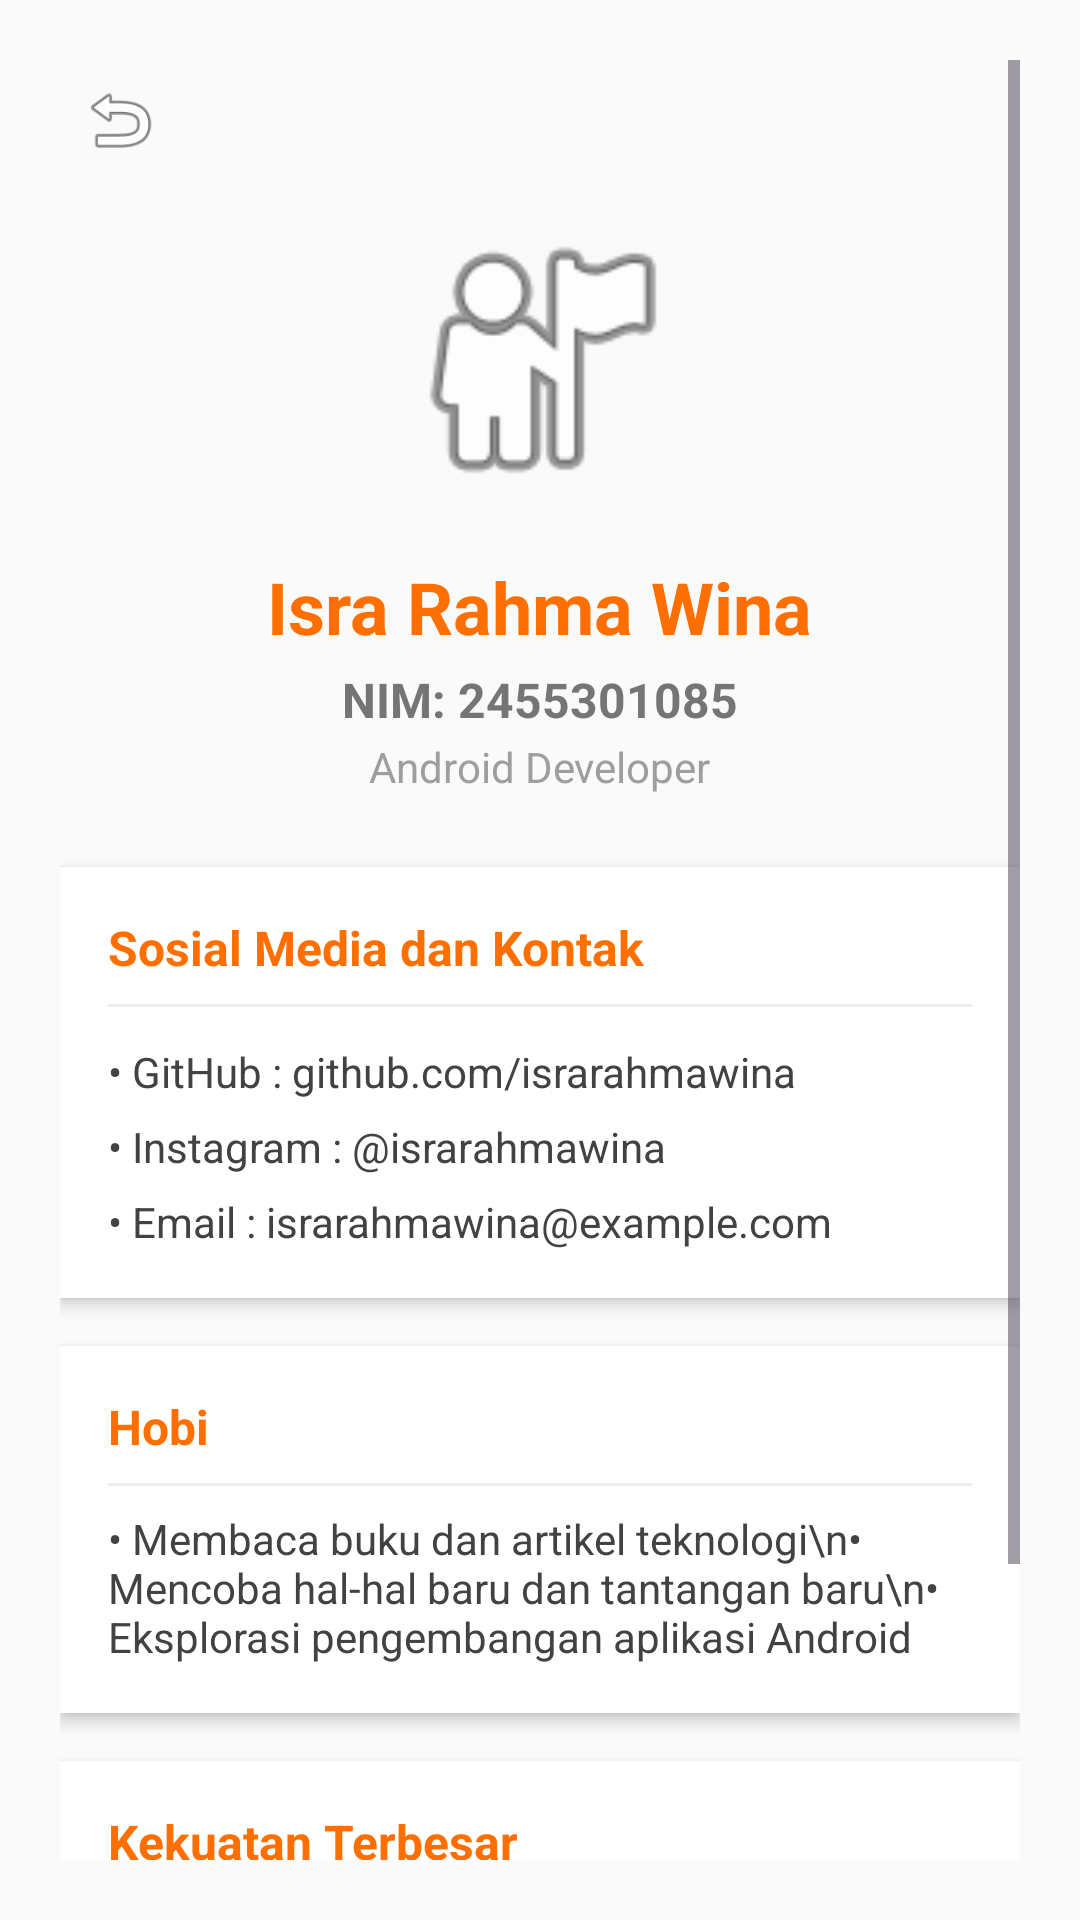

Locate icon controls on the screen. Image size 1080 x 1920, boxes as (x1, y1, x2, y2).
Back: (91, 93, 152, 148)
myplaces: (430, 248, 656, 472)
